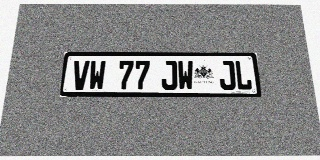7: (117, 60, 134, 90), (134, 60, 150, 90)
J: (218, 60, 236, 90), (161, 60, 177, 90)
L: (234, 60, 252, 90)
V: (71, 60, 90, 90)
W: (88, 60, 106, 90), (177, 60, 194, 90)
